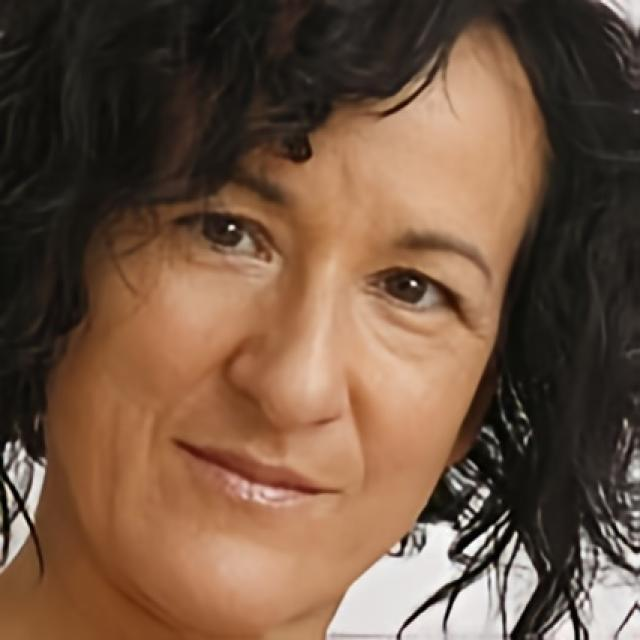content: (39, 0, 548, 640)
